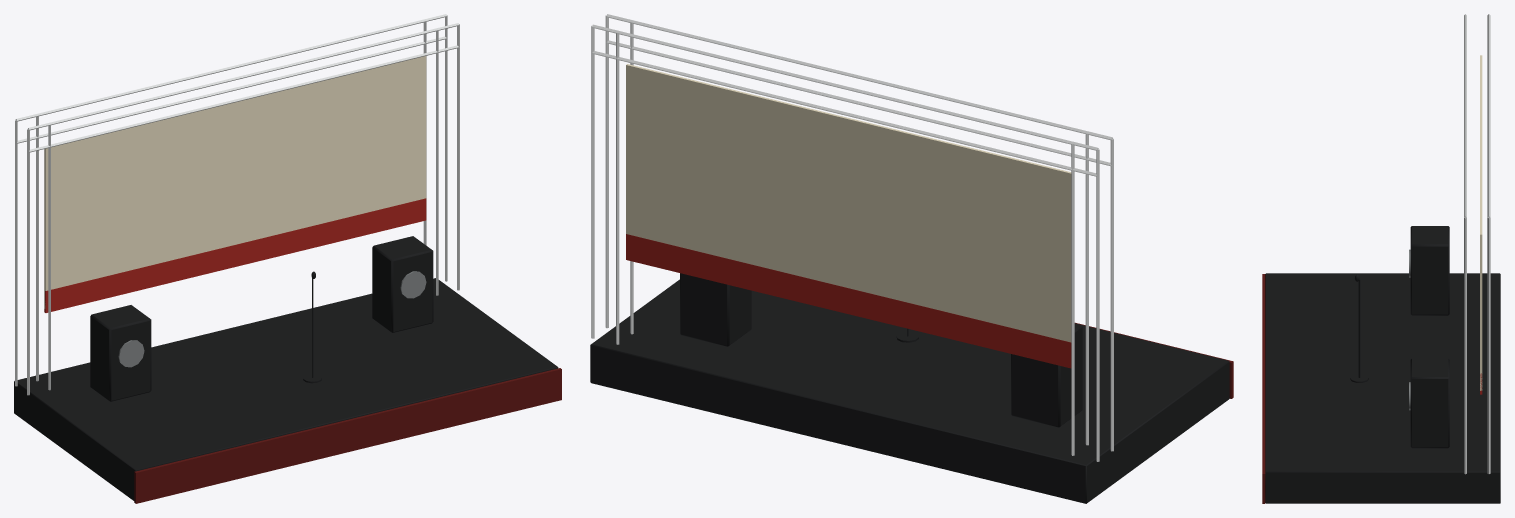
The model's file is atrium_stage.glb.
3 views of the same model, side by side, from view 1: azimuth 30°, elevation 25°; view 2: azimuth 150°, elevation 25°; view 3: azimuth 270°, elevation 25° (orthographic). The views are drawn at different scales.
Visible parts, largest first — view 1: AtriumStage; view 2: AtriumStage; view 3: AtriumStage.
Part boxes in pixels (bbox=[...]): AtriumStage: bbox=[14, 14, 561, 503]; AtriumStage: bbox=[590, 14, 1233, 503]; AtriumStage: bbox=[1262, 14, 1500, 503].
Bounding box in the file's own units: 6.14 × 4.07 × 3.04.
